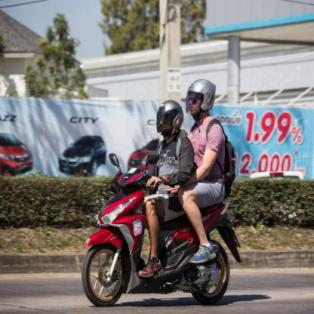Motocicleta: (78, 149, 238, 308)
